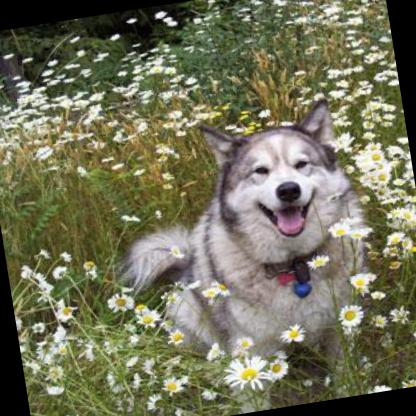malamute: (96, 95, 389, 416)
